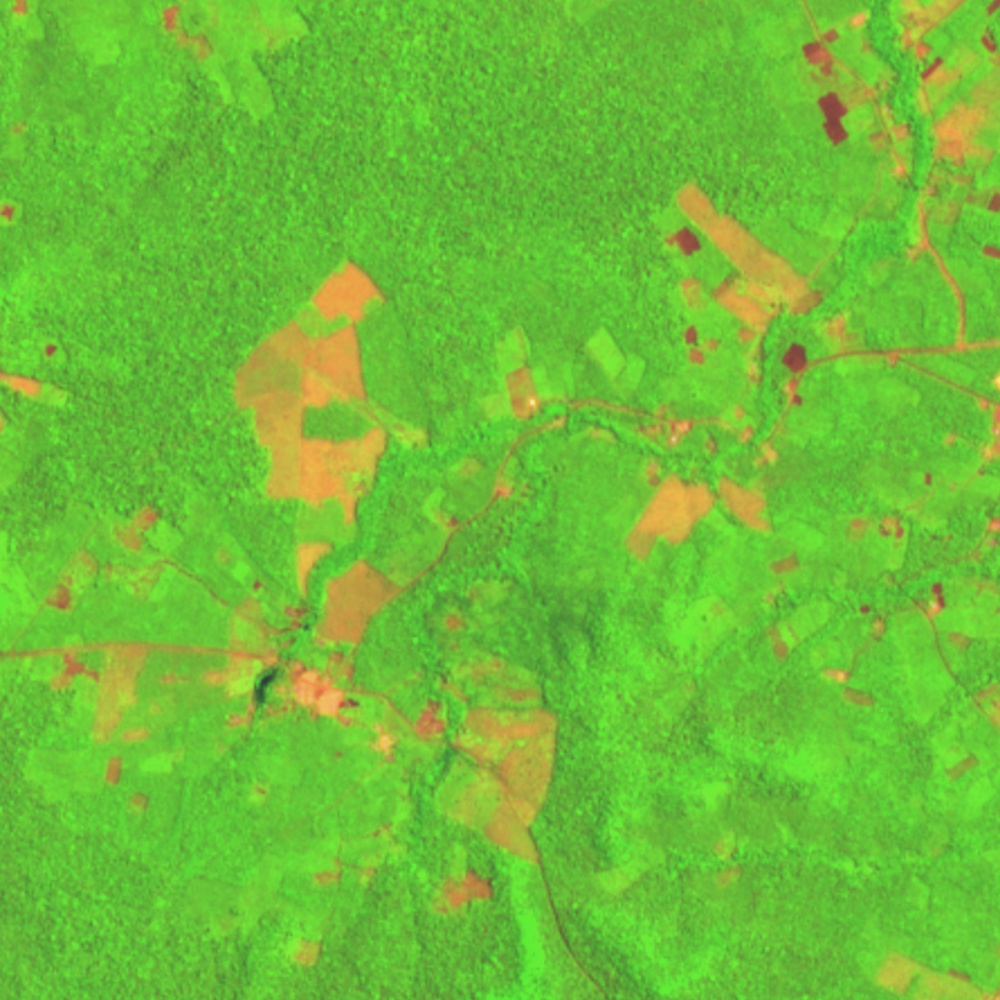legal: (220, 253, 437, 526), (47, 637, 368, 820), (790, 1, 1000, 264), (661, 178, 858, 428), (411, 645, 562, 915), (619, 424, 797, 564), (38, 504, 169, 626), (764, 593, 895, 711), (460, 320, 574, 434), (294, 839, 385, 979), (845, 466, 933, 542), (874, 947, 1000, 1000), (1, 337, 65, 438), (944, 375, 1000, 485), (944, 684, 1000, 783), (583, 323, 649, 399), (152, 1, 217, 61), (969, 514, 1000, 599), (366, 717, 405, 769), (443, 582, 476, 641), (1, 1, 47, 38), (920, 581, 951, 625), (489, 470, 521, 503), (1, 200, 21, 227), (6, 119, 29, 139)
